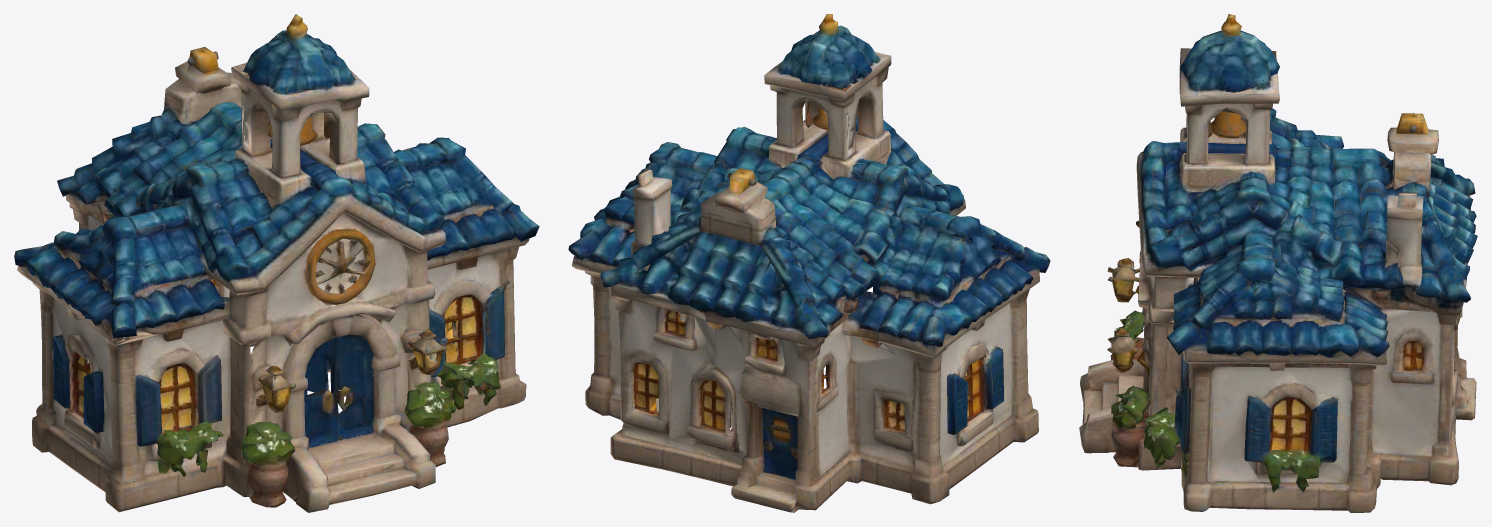
3 views of the same model, side by side, from view 1: azimuth 30°, elevation 25°; view 2: azimuth 150°, elevation 25°; view 3: azimuth 270°, elevation 25° (orthographic). The views are drawn at different scales.
Parts seen in each view (by area): view 1: harbor__civic_hall__native_mobile; view 2: harbor__civic_hall__native_mobile; view 3: harbor__civic_hall__native_mobile.
Part boxes in pixels (x1,y1,x2,y2): harbor__civic_hall__native_mobile: (14,14,539,512); harbor__civic_hall__native_mobile: (568,14,1050,512); harbor__civic_hall__native_mobile: (1079,14,1477,512).
Bounding box in the file's own units: 1 × 0.97 × 0.8353.
1 material, 1 textured.
